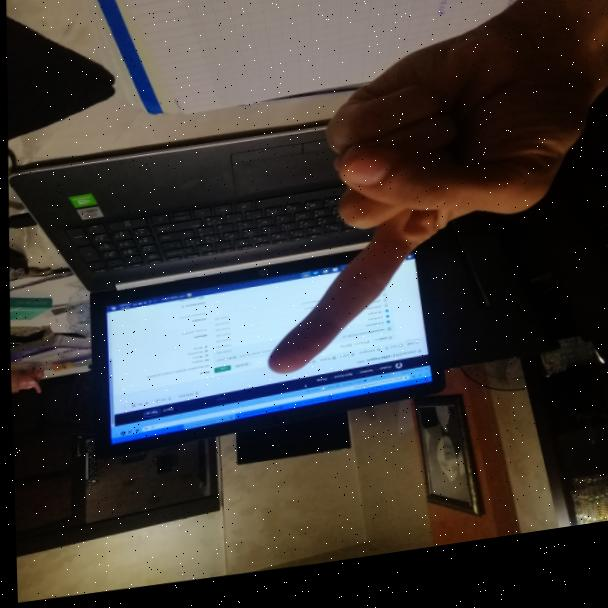one: (239, 11, 578, 408)
